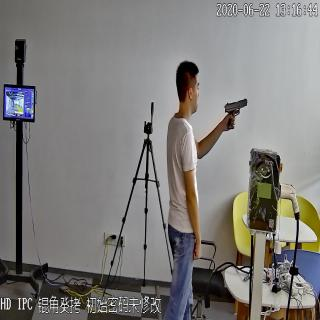gun: (222, 97, 250, 131)
